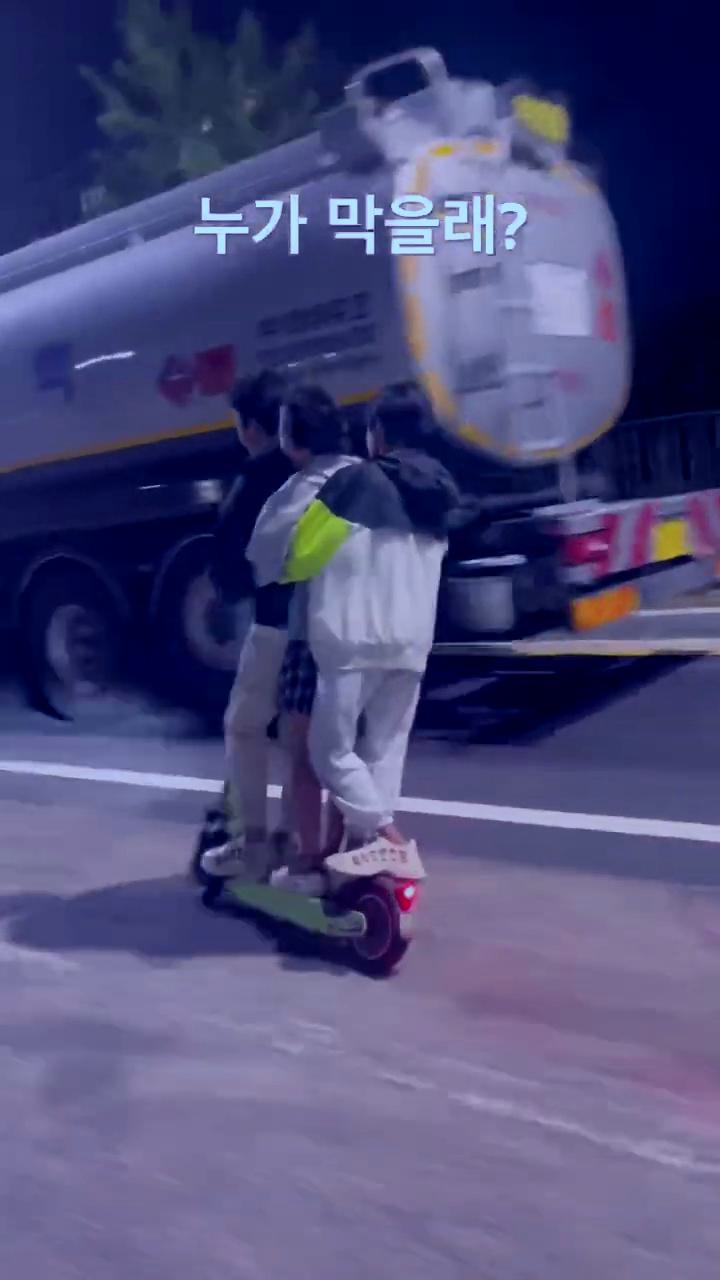multiple: (176, 358, 470, 977)
